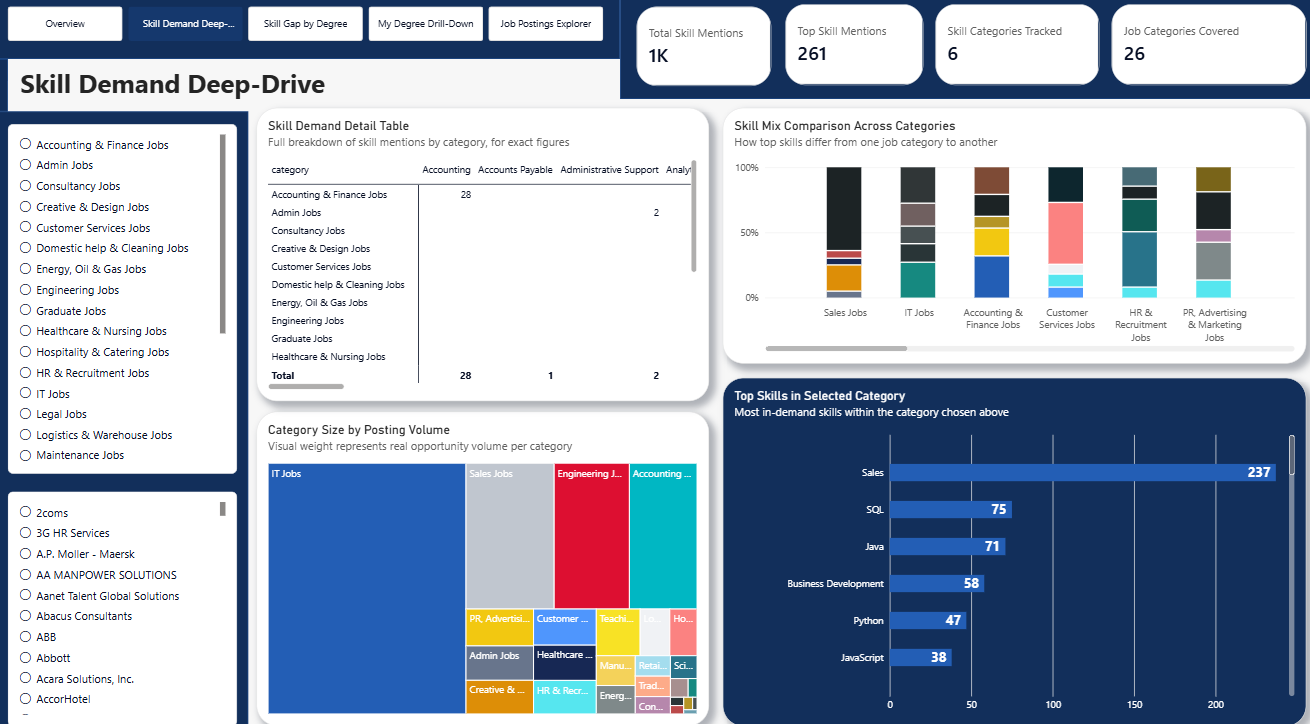

What the dashboard file says about the page in this screenshot:
{"tool":"powerbi","page":{"name":"Skill Demand Deep-Drive","canvas":[1920,1080],"ordinal":1},"visuals":[{"type":"shape","box":[906,0,1014,152],"z":0},{"type":"shape","box":[0,0,906,94],"z":1000},{"type":"cardVisual","fields":{"Data":["_Measure.Total Skill Mentions"]},"box":[930,17.5,195,115],"z":2000},{"type":"cardVisual","fields":{"Data":["_Measure.Total Job Categories Covered"]},"box":[1617.5,15,282.5,117.5],"z":3000},{"type":"cardVisual","fields":{"Data":["_Measure.Number of Skill Categories"]},"box":[1362.5,15,237.5,117.5],"z":4000},{"type":"cardVisual","fields":{"Data":["_Measure.Top Skill Mentions"]},"box":[1145,15,200,117.5],"z":5000},{"type":"clusteredBarChart","title":"Top Skills in Selected Category","fields":{"Category":["category_skill_breakdown.skill"],"Y":["Sum(category_skill_breakdown.posting_count)"]},"box":[1055,555,845,505],"z":6000},{"type":"treemap","title":"Category Size by Posting Volume","fields":{"Group":["job_postings_detail.category"],"Values":["CountNonNull(job_postings_detail.title)"]},"box":[380,605,655,455],"z":7000},{"type":"pivotTable","title":"Skill Demand Detail Table","fields":{"Rows":["category_skill_breakdown.category"],"Columns":["category_skill_breakdown.skill"],"Values":["Sum(category_skill_breakdown.posting_count)"]},"box":[380,165,655,425],"z":8000},{"type":"hundredPercentStackedColumnChart","title":"Skill Mix Comparison Across Categories","fields":{"Series":["category_skill_breakdown.skill"],"Y":["Sum(category_skill_breakdown.posting_count)"],"Category":["category_skill_breakdown.category"]},"box":[1055,165,845,370],"z":9000},{"type":"shape","box":[0,170,368,910],"z":10000},{"type":"listSlicer","fields":{"Values":["job_postings_detail.category"]},"box":[20,188,332,506],"z":11000},{"type":"listSlicer","fields":{"Values":["job_postings_detail.company"]},"box":[20,720,332,340],"z":12000},{"type":"pageNavigator","box":[20,18,866,50],"z":13000},{"type":"shape","box":[0,94,20,76],"z":14000}]}

Visuals, with their boxes in screenshot pixels (x1, y1, x2, y2), scaled from the page's 1920x1080 canvas onto the 1310x724 screenshot:
shape: [618,0,1309,102]
shape: [0,0,618,63]
cardVisual - _Measure.Total Skill Mentions: [635,12,768,89]
cardVisual - _Measure.Total Job Categories Covered: [1104,10,1296,89]
cardVisual - _Measure.Number of Skill Categories: [930,10,1092,89]
cardVisual - _Measure.Top Skill Mentions: [781,10,918,89]
"Top Skills in Selected Category" clusteredBarChart: [720,372,1296,711]
"Category Size by Posting Volume" treemap: [259,406,706,711]
"Skill Demand Detail Table" pivotTable: [259,111,706,396]
"Skill Mix Comparison Across Categories" hundredPercentStackedColumnChart: [720,111,1296,359]
shape: [0,114,251,723]
listSlicer - job_postings_detail.category: [14,126,240,465]
listSlicer - job_postings_detail.company: [14,483,240,711]
pageNavigator: [14,12,605,46]
shape: [0,63,14,114]
